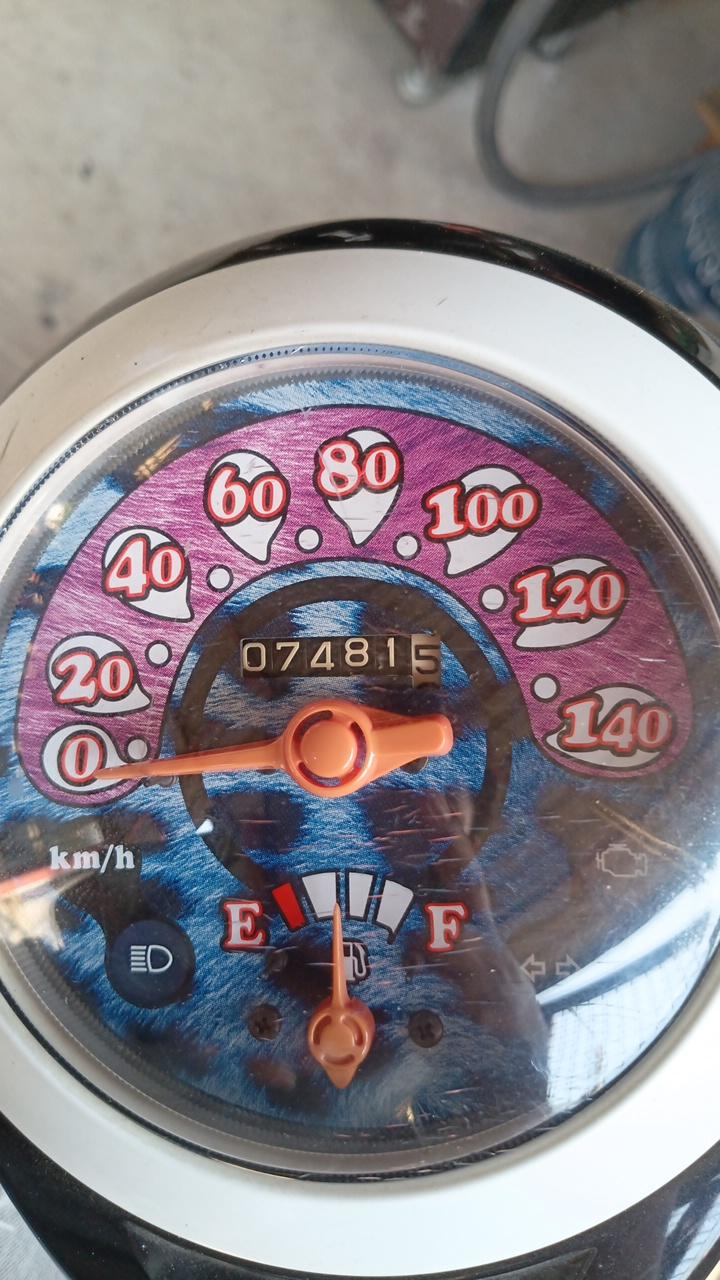0: (241, 639, 268, 673)
1: (386, 636, 397, 670)
4: (309, 639, 336, 672)
5: (413, 642, 440, 676)
7: (273, 639, 300, 672)
8: (342, 637, 371, 669)
odometer: (235, 631, 443, 691)
